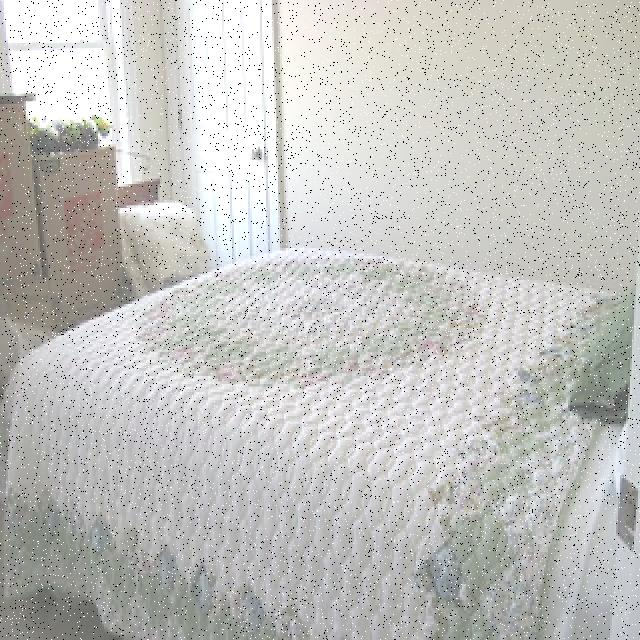bed: (0, 229, 640, 640)
